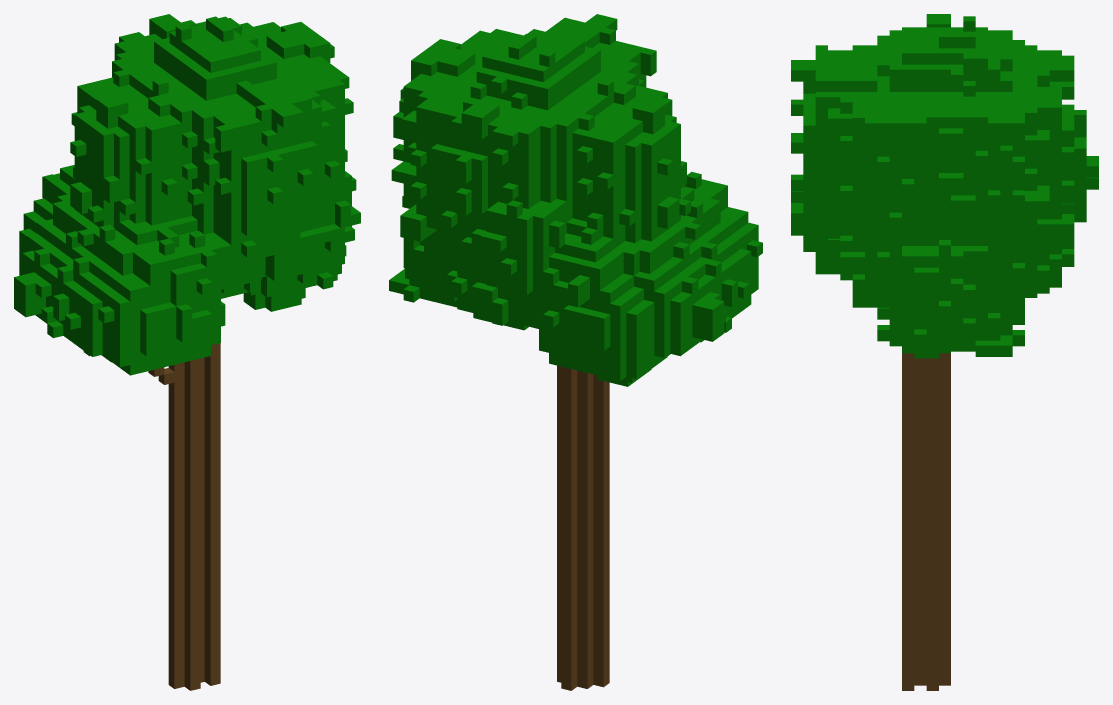
Rendered from Trainvasion Moterman-20-Tree 2.obj.
3 renders of one model, left to right at view 1: azimuth 30°, elevation 25°; view 2: azimuth 150°, elevation 25°; view 3: azimuth 270°, elevation 25°, orthographic. The views are drawn at different scales.
Visible parts, largest first — view 1: Tree 2; view 2: Tree 2; view 3: Tree 2.
Part boxes in pixels (x1,y1,x2,y2): Tree 2: [14, 14, 360, 690]; Tree 2: [389, 14, 762, 690]; Tree 2: [791, 14, 1098, 690].
Bounding box in the file's own units: 3.1 × 6 × 2.5.
Materials: 1 (1 with a texture image).
